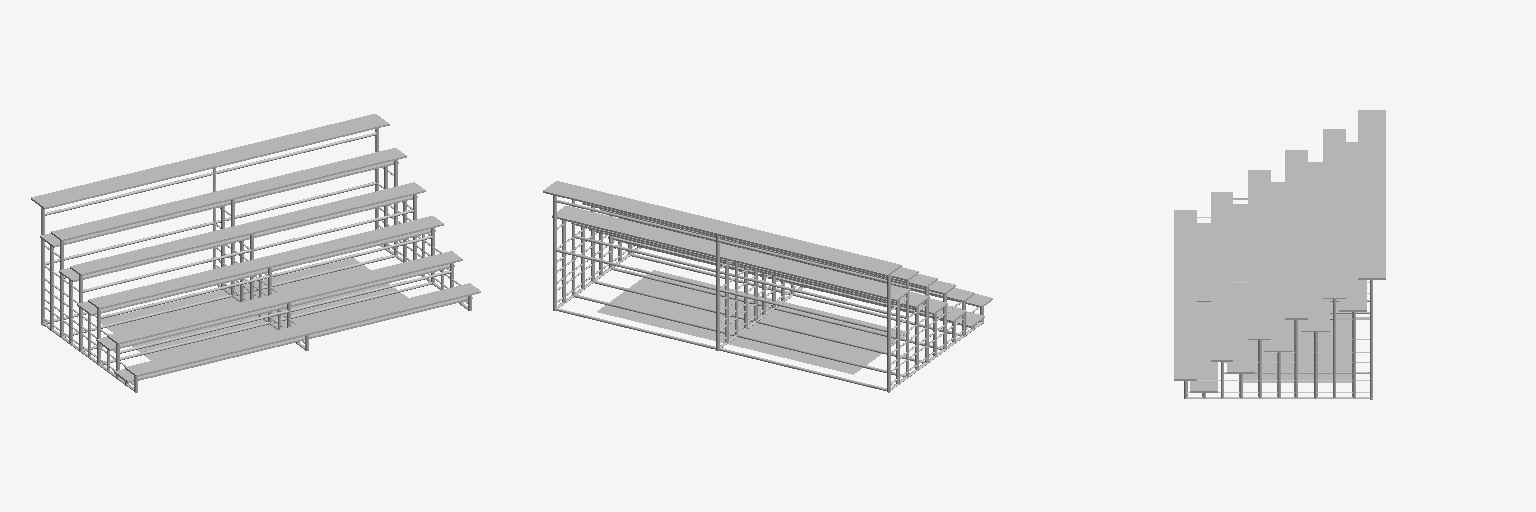
Rendered from bleachers.obj.
3 renders of one model, left to right at view 1: azimuth 30°, elevation 25°; view 2: azimuth 150°, elevation 25°; view 3: azimuth 270°, elevation 25°, orthographic.
Parts seen in each view (by area): view 1: bleachers; view 2: bleachers; view 3: bleachers.
Boxes of the visible parts, x1,y1,x2,y2 form: bleachers: [31, 114, 480, 392]; bleachers: [543, 181, 992, 392]; bleachers: [1174, 110, 1385, 399].
Bounding box in the file's own units: 1071 × 366 × 569.